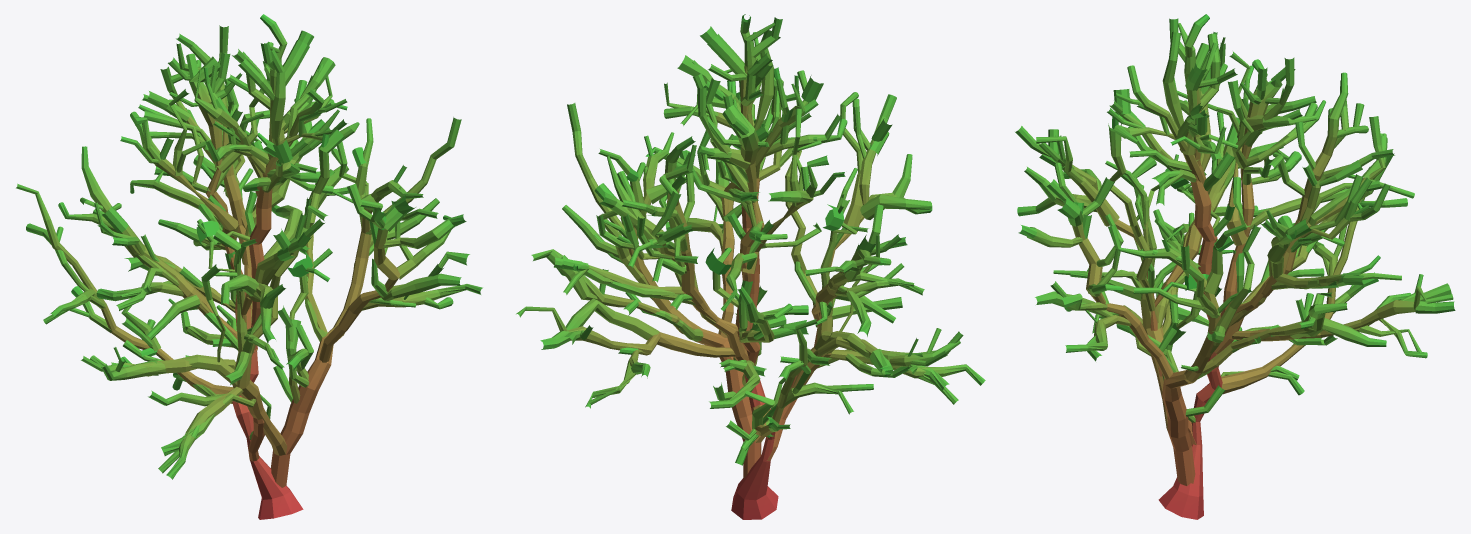
The model's file is Leaf-off-aerial-Stocky_Chestnut_Reconstruction.glb.
The picture shows the model from 3 angles, left to right: view 1: azimuth 30°, elevation 25°; view 2: azimuth 150°, elevation 25°; view 3: azimuth 270°, elevation 25°; orthographic projection.
Parts seen in each view (by area): view 1: model; view 2: model; view 3: model.
Boxes of the visible parts, x1,y1,x2,y2 form: model: (16, 14, 482, 519); model: (516, 14, 985, 519); model: (1015, 14, 1455, 519).
Size of the model in its own units: 9.72 by 12.27 by 9.86.
